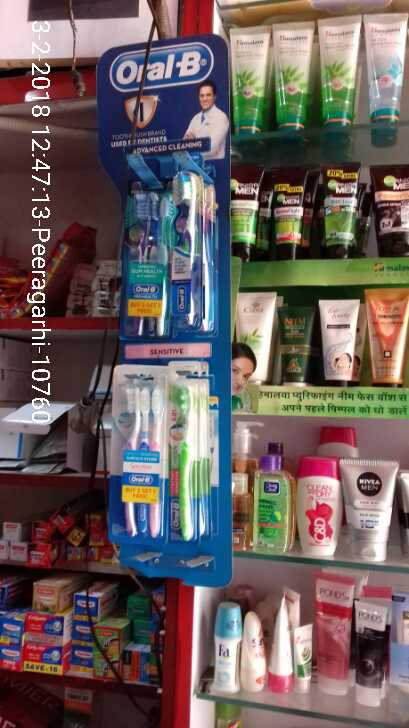oralb: (113, 192, 168, 341), (115, 379, 165, 539), (175, 171, 214, 329), (171, 383, 204, 534)
